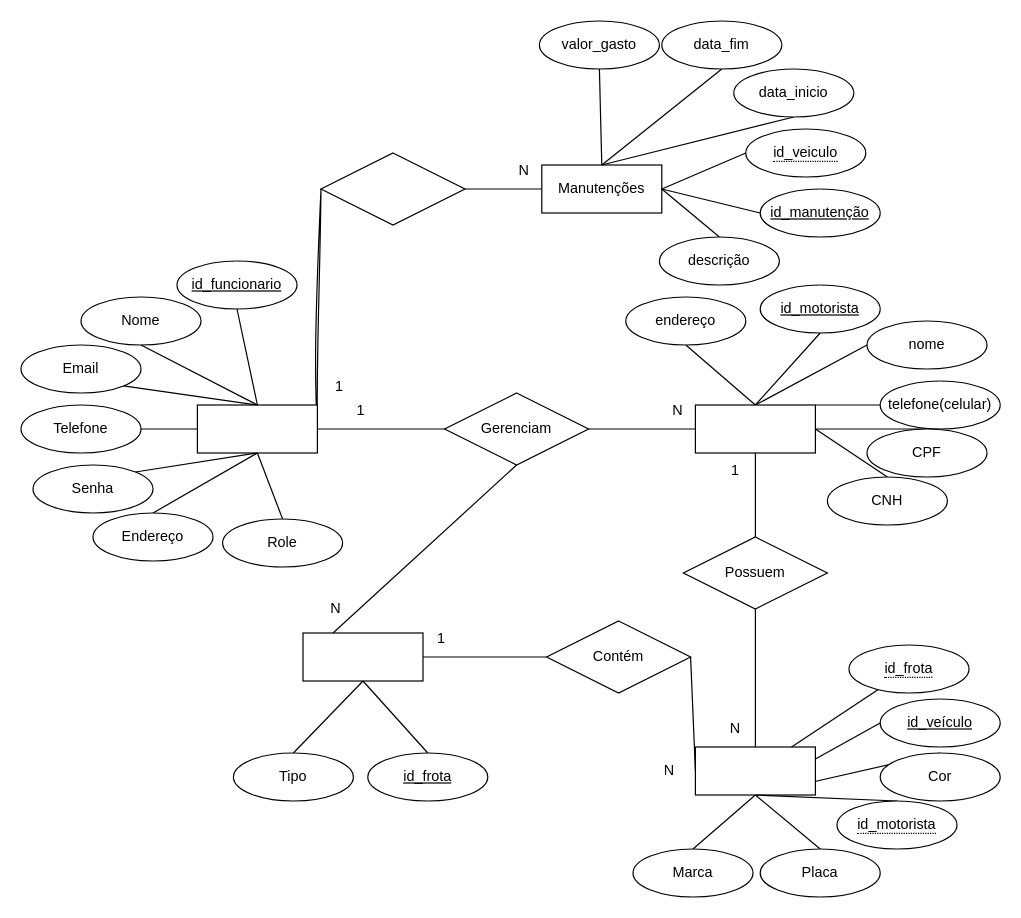
The diagram is 1021 pixels wide and 918 high, and some of its shapes have lost their labels. Each missing label, with the centre of its shape:
Agendam: point 392,188
Frotas: point 362,656
Funcionários: point 256,428
Motoristas: point 754,428
Veículos: point 754,770
